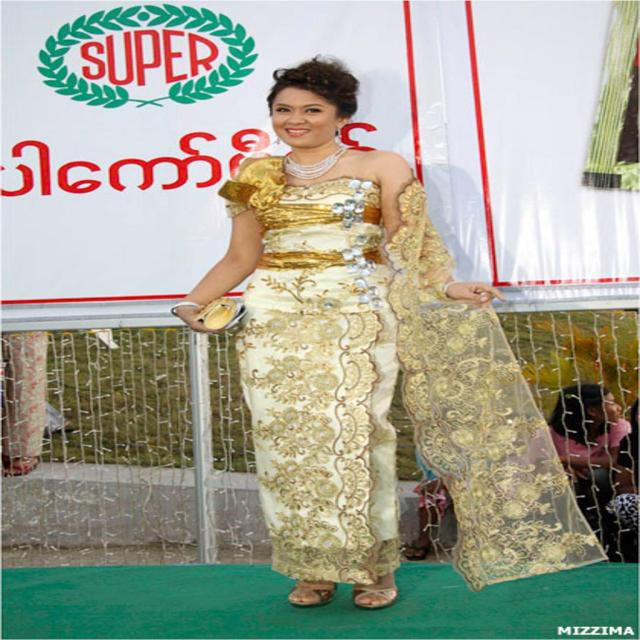Face: (264, 79, 354, 150)
